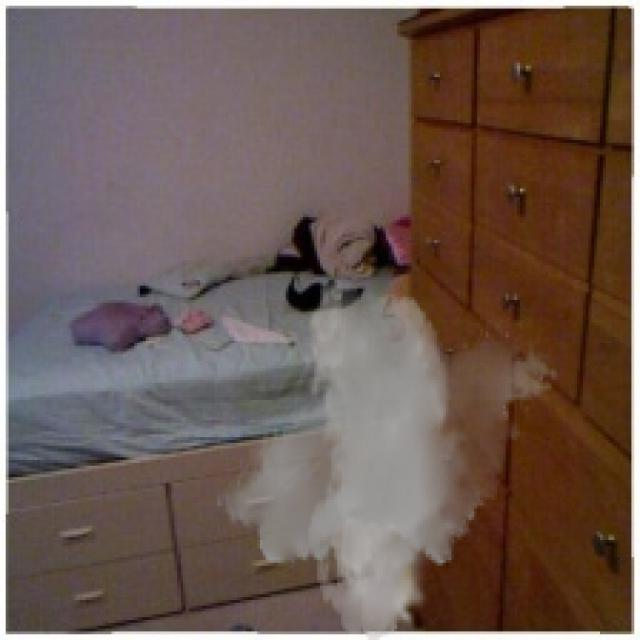smoke: (214, 277, 563, 637)
